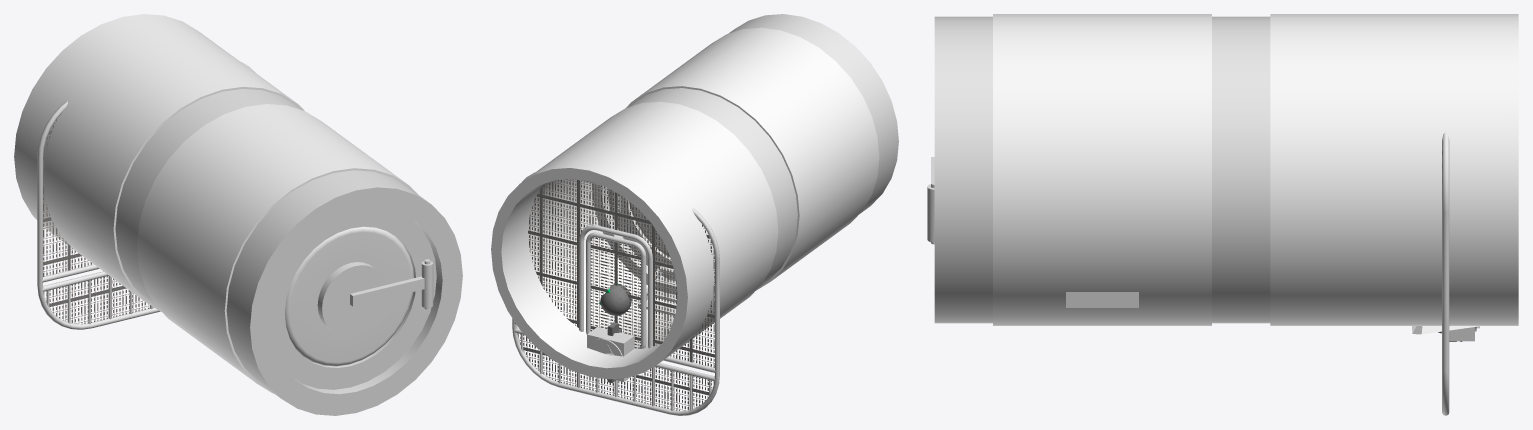
The picture shows the model from 3 angles, left to right: view 1: azimuth 30°, elevation 25°; view 2: azimuth 150°, elevation 25°; view 3: azimuth 270°, elevation 25°; orthographic projection. The views are drawn at different scales.
Visible parts, largest first — view 1: plasteel_combined, chrome_combined, airlock_outer_door, pCylinder47, pTorus29; view 2: plasteel_combined, chrome_combined, pTorus29, pCylinder47, pTorus30, pTorus16, box, terminal_base, airlock_inner_door; view 3: plasteel_combined, chrome_combined, pCylinder47, codebox_box.
Part boxes in pixels (<box>): plasteel_combined: <box>14,14,418,393</box>; chrome_combined: <box>115,89,462,415</box>; airlock_outer_door: <box>285,226,424,366</box>; pCylinder47: <box>37,61,255,329</box>; pTorus29: <box>43,119,153,324</box>; plasteel_combined: <box>491,27,879,379</box>; chrome_combined: <box>592,14,898,315</box>; pTorus29: <box>517,179,714,410</box>; pCylinder47: <box>512,172,719,415</box>; pTorus30: <box>590,237,640,348</box>; pTorus16: <box>586,232,646,348</box>; box: <box>587,327,634,381</box>; terminal_base: <box>600,284,631,315</box>; airlock_inner_door: <box>618,194,670,257</box>; plasteel_combined: <box>993,14,1518,325</box>; chrome_combined: <box>927,16,1270,323</box>; pCylinder47: <box>1442,132,1449,415</box>; codebox_box: <box>1066,292,1138,307</box>.
Size of what is drawn, in the model's own units: 5.62 by 6.48 by 10.12.
10 materials, 3 textured.
